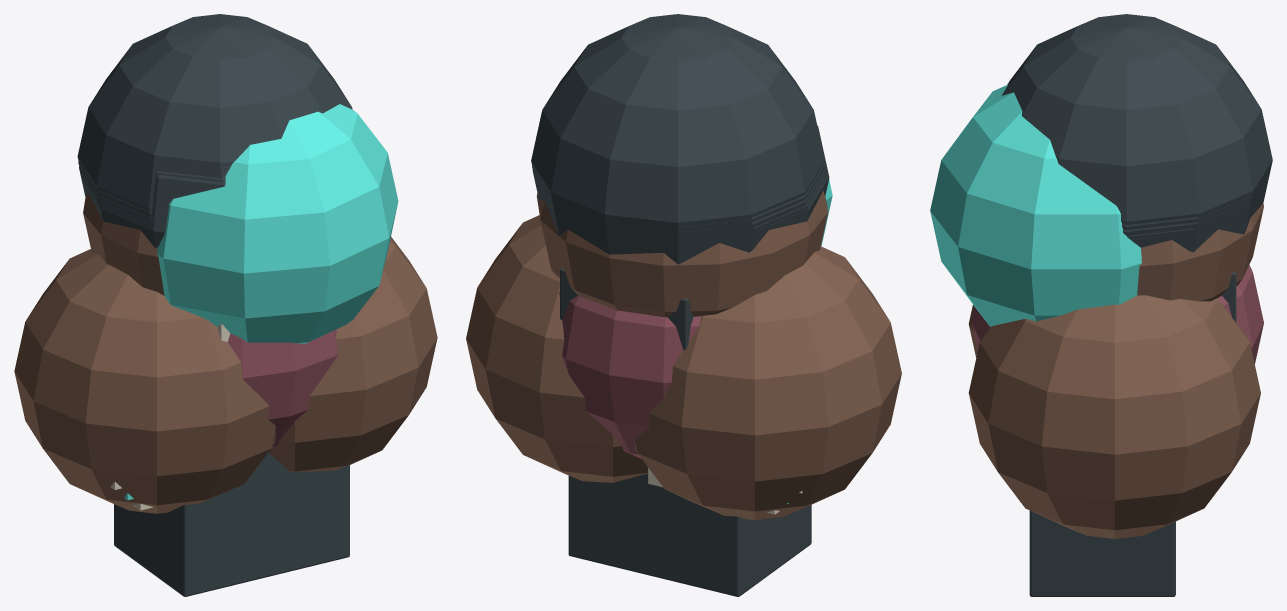
The model's file is Sen_Osei.fbx.
3 renders of one model, left to right at view 1: azimuth 30°, elevation 25°; view 2: azimuth 150°, elevation 25°; view 3: azimuth 270°, elevation 25°, orthographic. The views are drawn at different scales.
Parts seen in each view (by area): view 1: RightHandMesh, IntentEye, Hair_4, LeftHandMesh, LeftFootMesh, RightFootMesh, Coat, HeadMesh, Hair_0, Hair_1; view 2: Hair_4, RightHandMesh, LeftHandMesh, HeadMesh, Coat, LeftFootMesh, RightFootMesh, Hair_2, ForecastCoat, Hair_3, Hair_0; view 3: LeftHandMesh, Hair_4, IntentEye, LeftFootMesh, HeadMesh, Coat, Hair_2, Hair_3, Hair_0.
Part boxes in pixels (x1=…): RightHandMesh: x1=14, y1=249, x2=275, y2=513; IntentEye: x1=157, y1=104, x2=398, y2=343; Hair_4: x1=77, y1=14, x2=352, y2=209; LeftHandMesh: x1=268, y1=237, x2=437, y2=472; LeftFootMesh: x1=229, y1=452, x2=349, y2=585; RightFootMesh: x1=114, y1=459, x2=305, y2=596; Coat: x1=228, y1=329, x2=337, y2=448; HeadMesh: x1=83, y1=192, x2=164, y2=295; Hair_0: x1=82, y1=175, x2=225, y2=247; Hair_1: x1=80, y1=171, x2=225, y2=226; Hair_4: x1=531, y1=14, x2=824, y2=264; RightHandMesh: x1=634, y1=246, x2=901, y2=520; LeftHandMesh: x1=466, y1=215, x2=647, y2=482; HeadMesh: x1=536, y1=190, x2=828, y2=317; Coat: x1=559, y1=291, x2=701, y2=458; LeftFootMesh: x1=568, y1=474, x2=693, y2=585; RightFootMesh: x1=613, y1=473, x2=811, y2=596; Hair_2: x1=532, y1=167, x2=826, y2=263; ForecastCoat: x1=560, y1=268, x2=693, y2=350; Hair_3: x1=532, y1=162, x2=825, y2=263; Hair_0: x1=753, y1=125, x2=829, y2=248; LeftHandMesh: x1=968, y1=295, x2=1260, y2=538; Hair_4: x1=1001, y1=14, x2=1272, y2=233; IntentEye: x1=930, y1=84, x2=1141, y2=327; LeftFootMesh: x1=1029, y1=510, x2=1175, y2=596; HeadMesh: x1=1137, y1=203, x2=1263, y2=301; Coat: x1=971, y1=265, x2=1263, y2=364; Hair_2: x1=1123, y1=201, x2=1250, y2=252; Hair_3: x1=1122, y1=196, x2=1251, y2=233; Hair_0: x1=1131, y1=233, x2=1190, y2=250.
Bounding box in the file's own units: 3.12 × 3.99 × 2.34.
